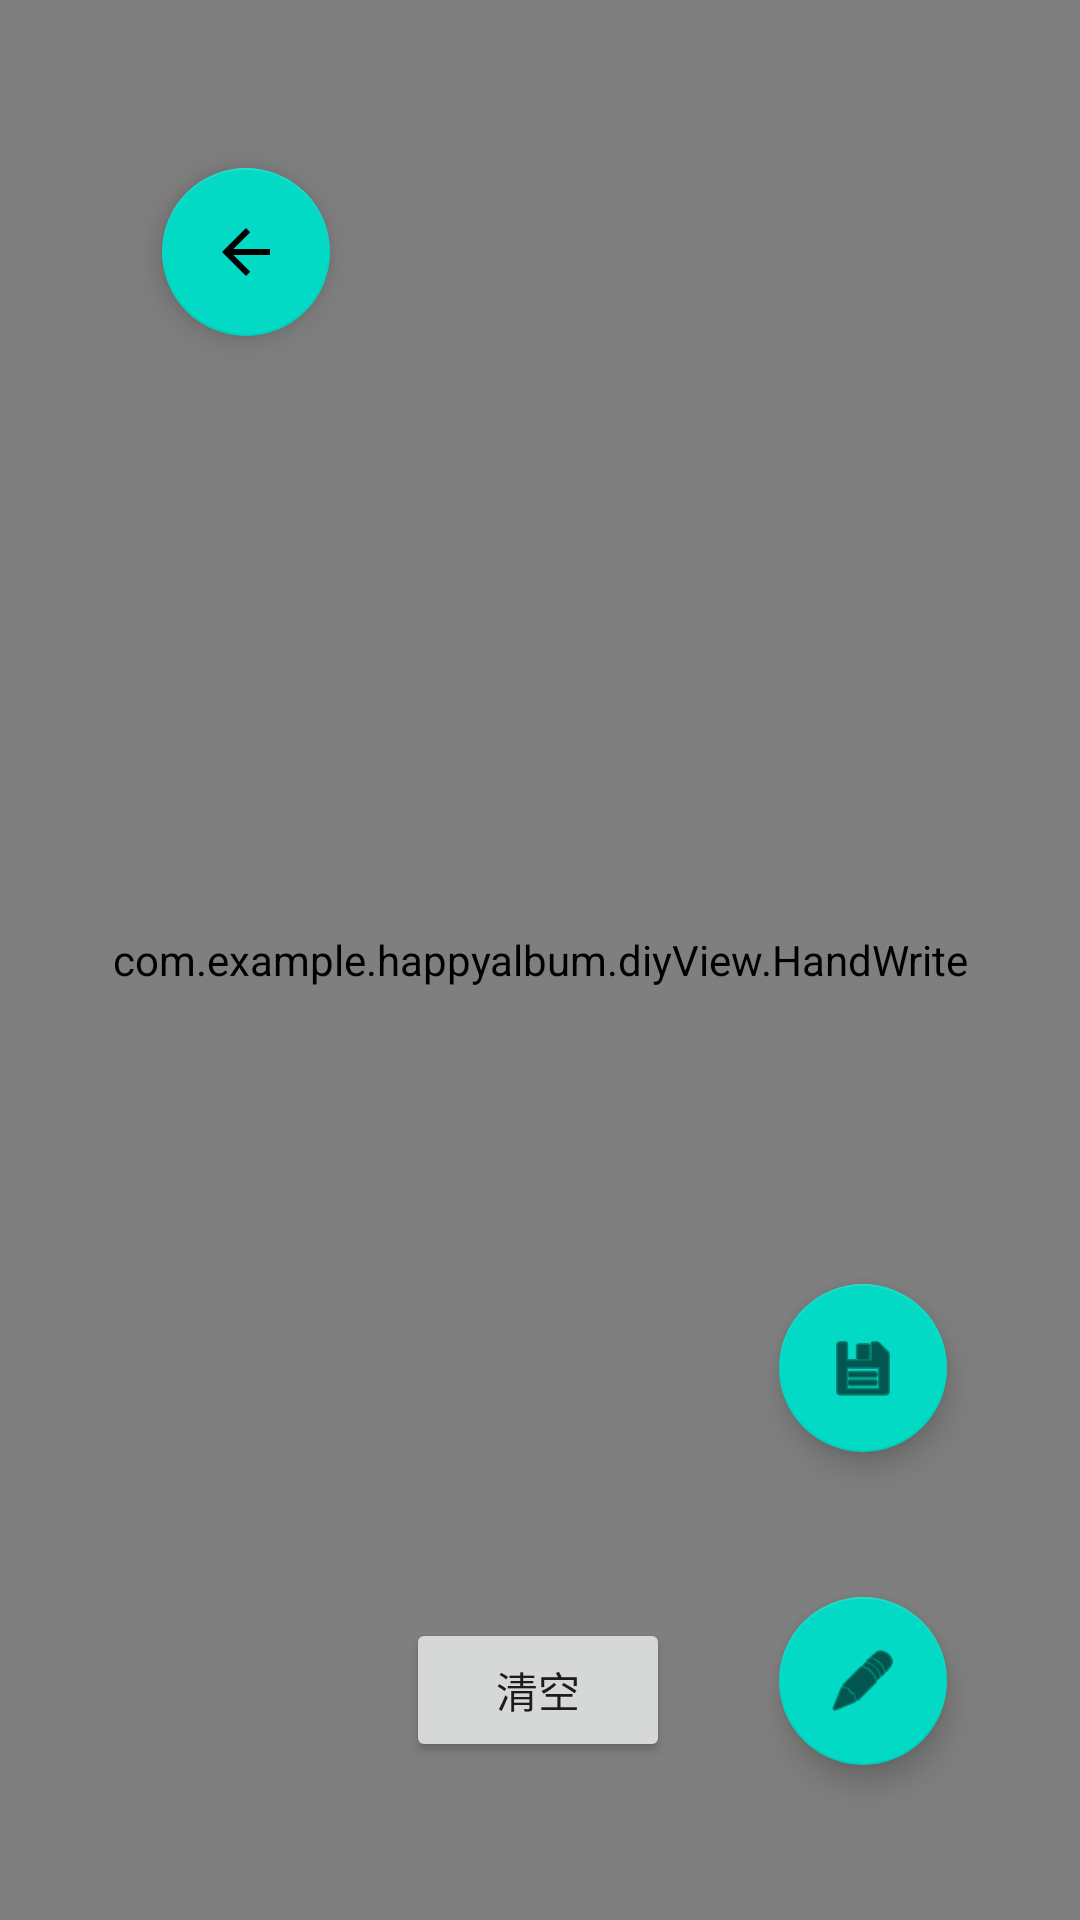

Icon bounding boxes for this 1080px×1920px phone screenshot, format (x1, y1, x2, y2):
edit: (779, 1597, 947, 1765)
save: (779, 1284, 947, 1452)
